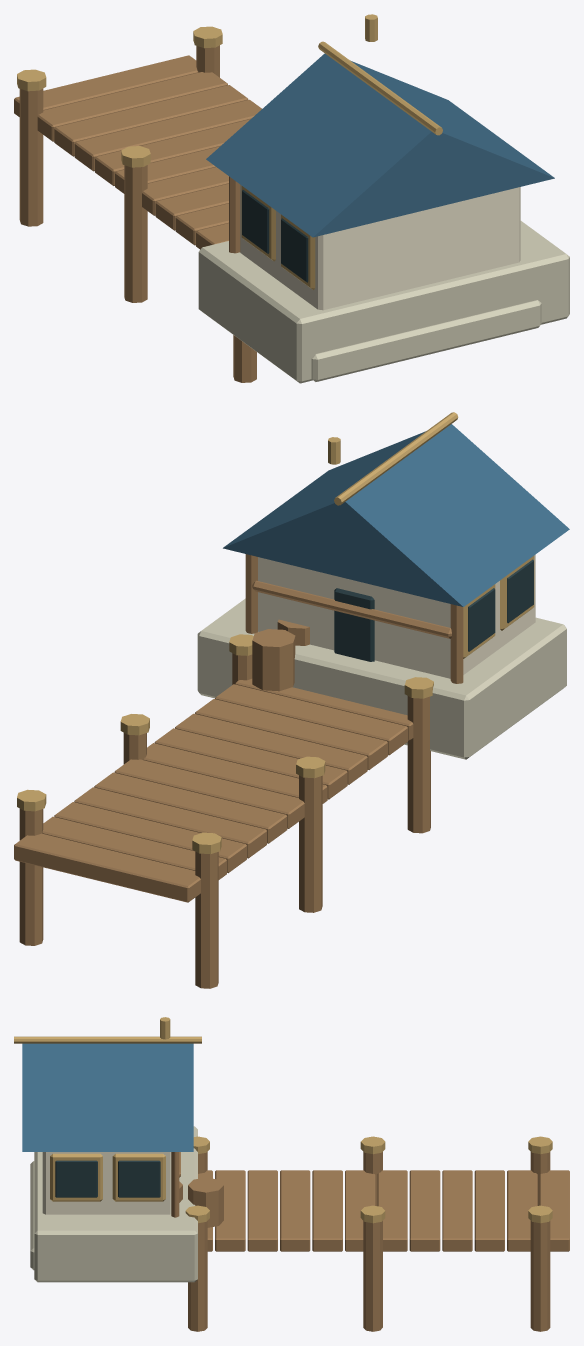
The model's file is level_03.glb.
The picture shows the model from 3 angles, top to bottom: view 1: azimuth 30°, elevation 25°; view 2: azimuth 150°, elevation 25°; view 3: azimuth 270°, elevation 25°; orthographic projection. The views are drawn at different scales.
Parts seen in each view (by area): view 1: fishing_wharf — level 03; view 2: fishing_wharf — level 03; view 3: fishing_wharf — level 03.
Boxes of the visible parts, x1,y1,x2,y2 form: fishing_wharf — level 03: (14,14,569,383); fishing_wharf — level 03: (14,412,569,988); fishing_wharf — level 03: (14,1017,569,1331).
Bounding box in the file's own units: 3.1 × 3.79 × 6.8.
